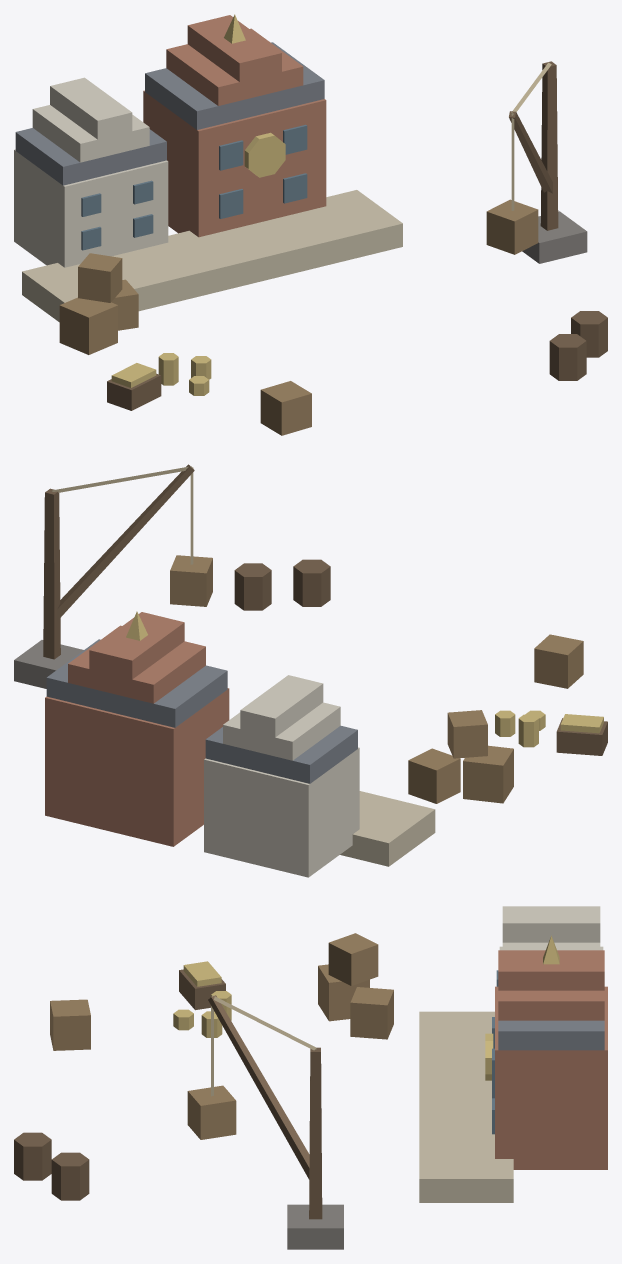
Rendered from customs-house.glb.
The picture shows the model from 3 angles, top to bottom: view 1: azimuth 30°, elevation 25°; view 2: azimuth 150°, elevation 25°; view 3: azimuth 270°, elevation 25°; orthographic projection. The views are drawn at different scales.
Visible parts, largest first — view 1: LOD0; view 2: LOD0; view 3: LOD0.
Boxes of the visible parts, box(x1,y1,x2,y2) form: LOD0: box(14, 14, 607, 435); LOD0: box(14, 464, 607, 877); LOD0: box(14, 906, 607, 1249).
Size of what is drawn, in the model's own units: 1.3 by 0.505 by 1.26.
